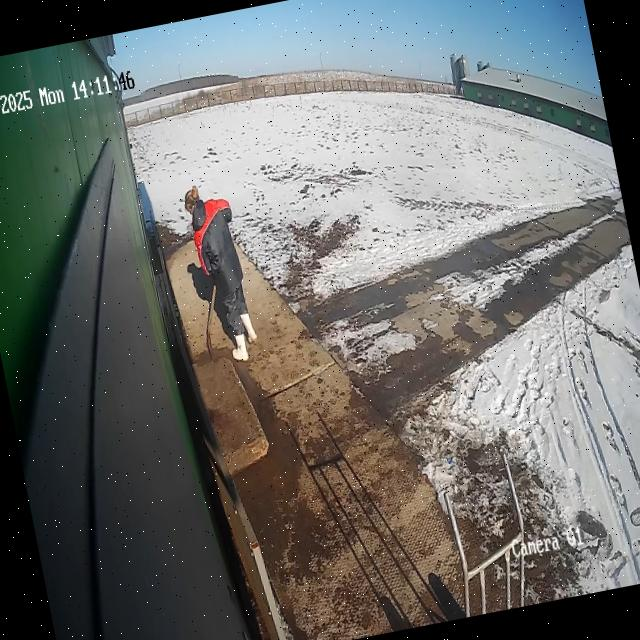Red uniform: (185, 193, 258, 350)
